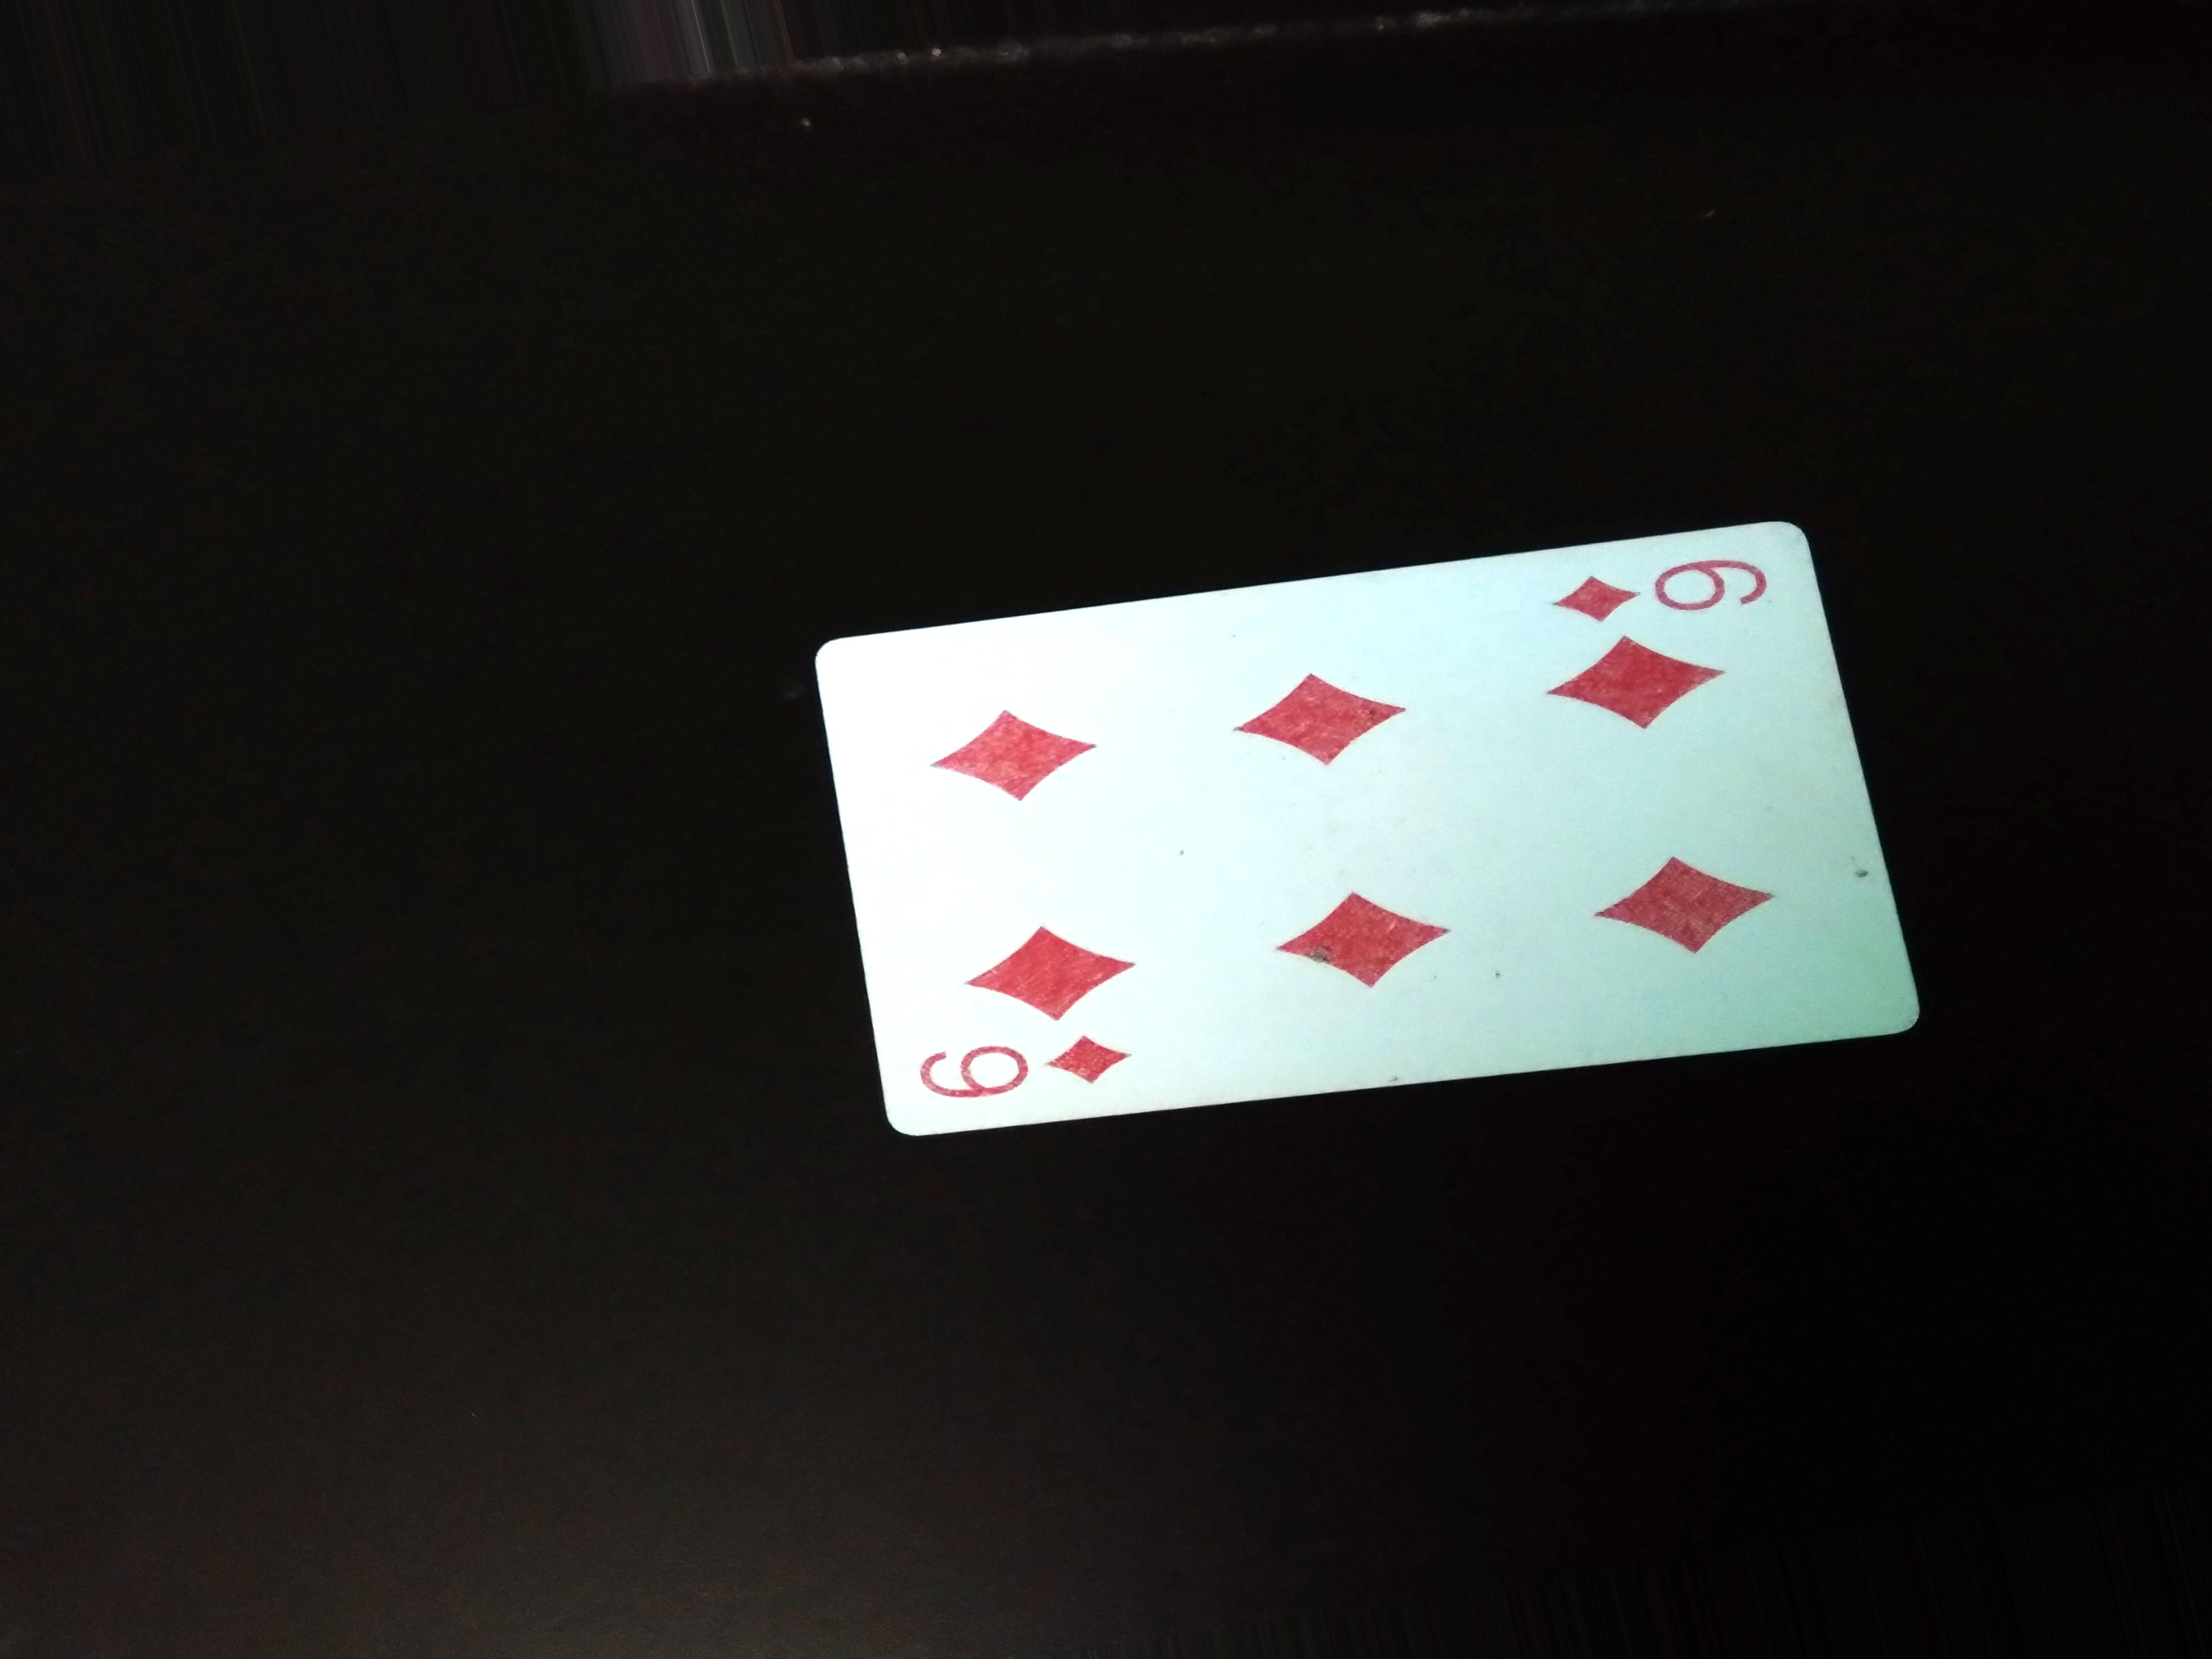6D: (1564, 554, 1771, 634)
